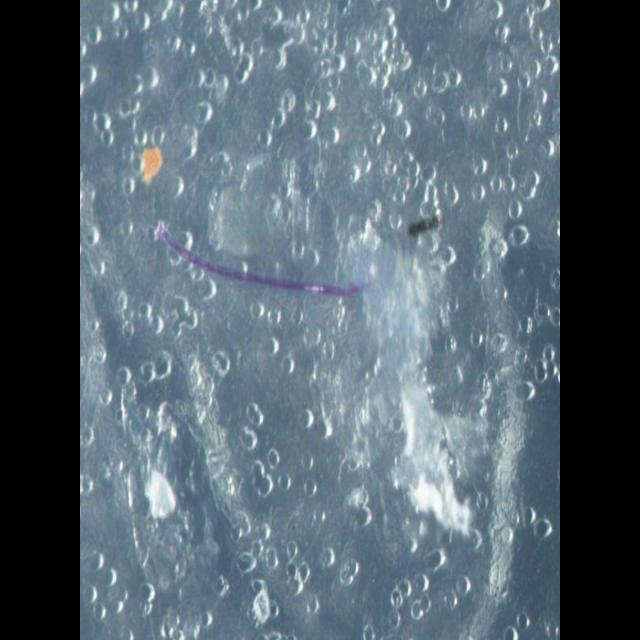Fibre: (151, 200, 389, 314)
